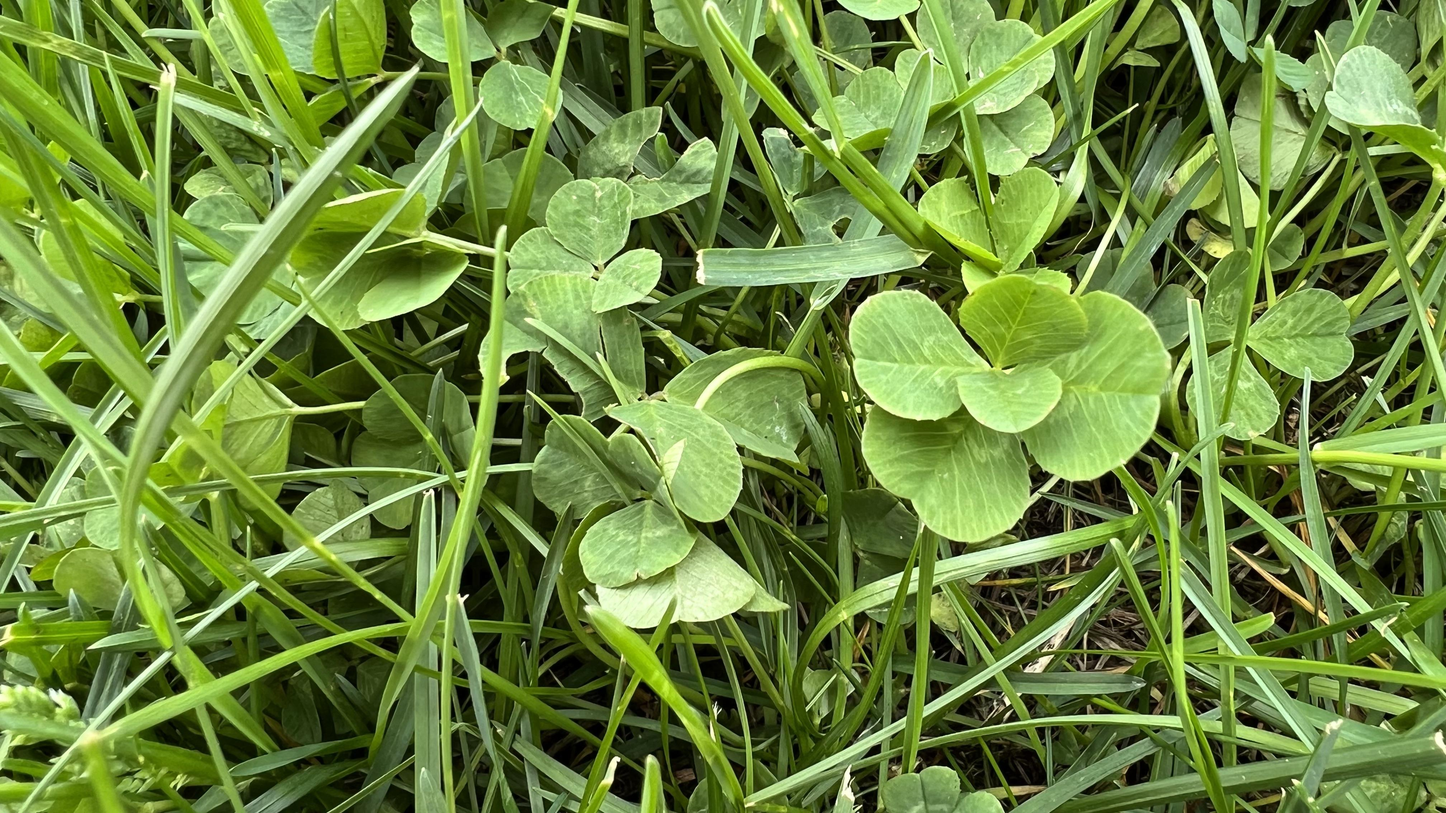5-Leaf-Clovers: (841, 286, 1171, 535)
